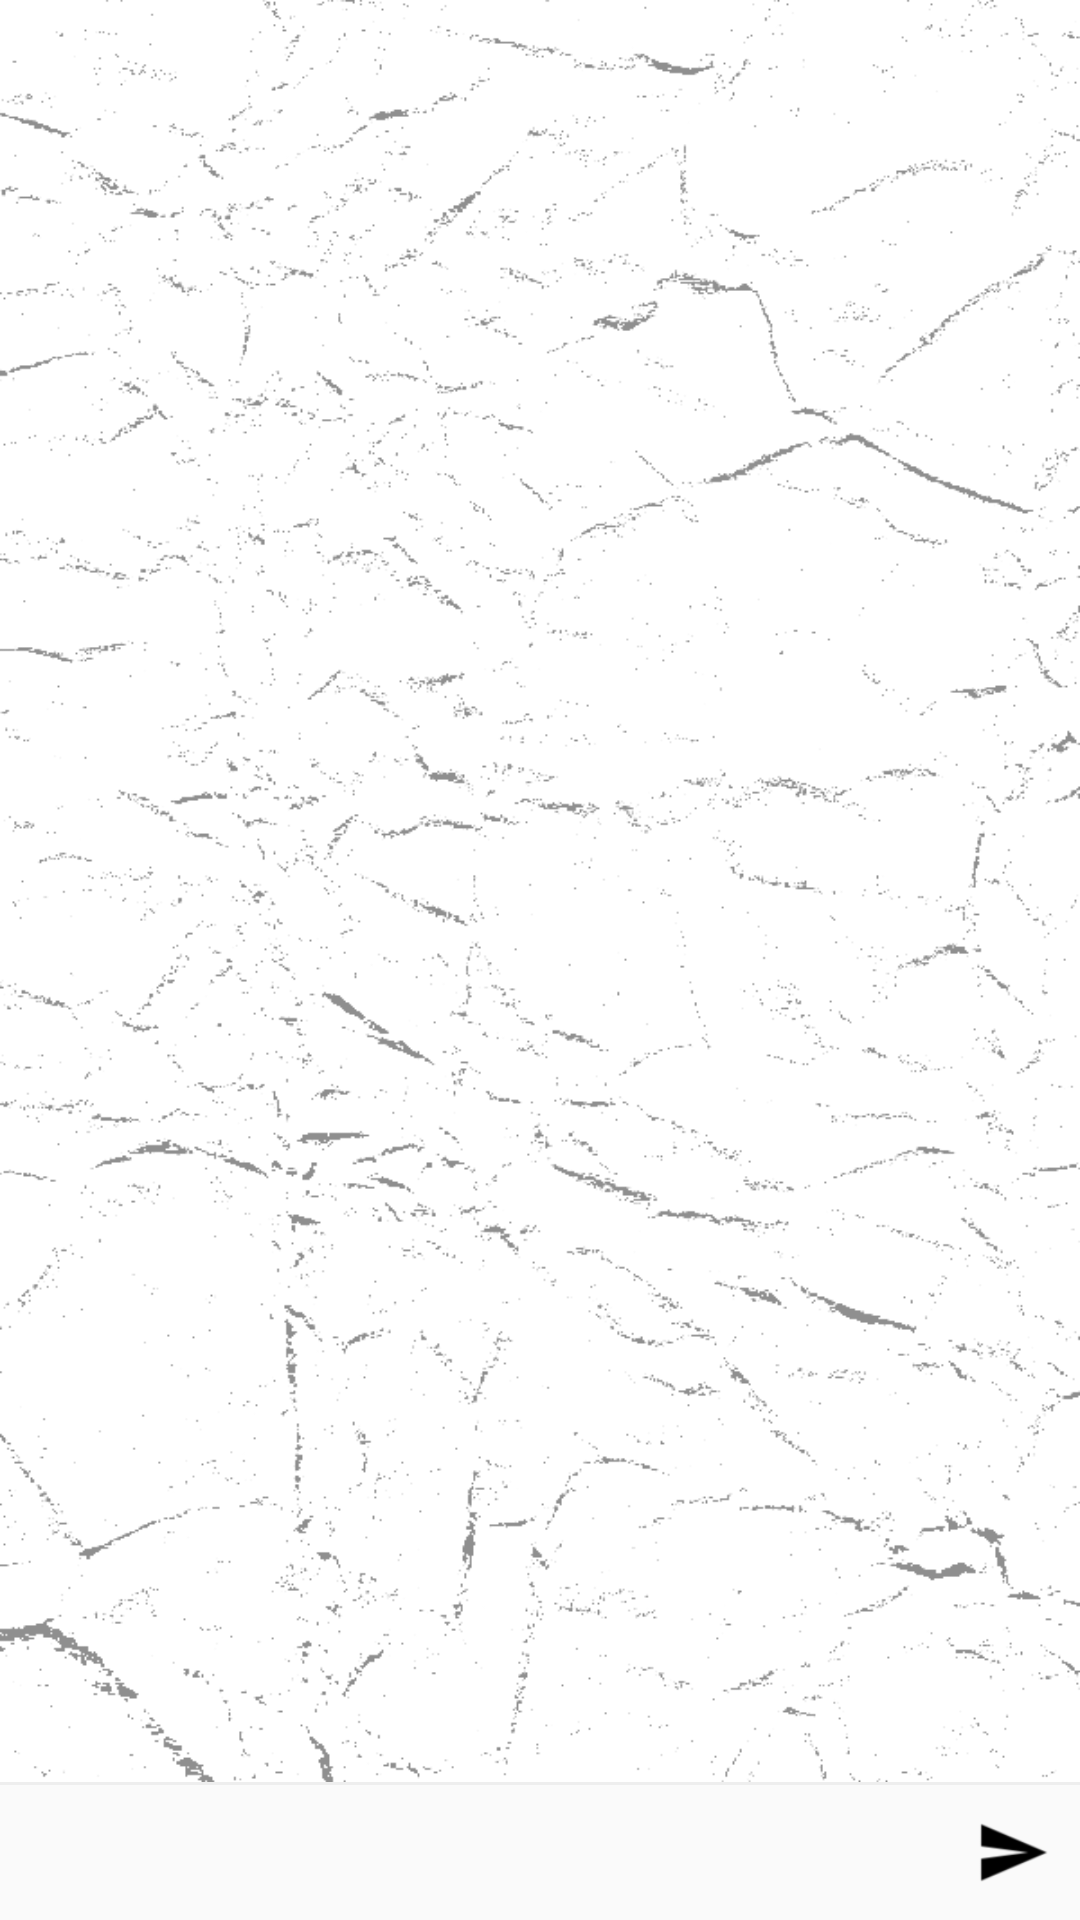

Point at icon controls on the screen. Image size 1080×1920, points as point (x, y).
send: point (1013, 1852)
